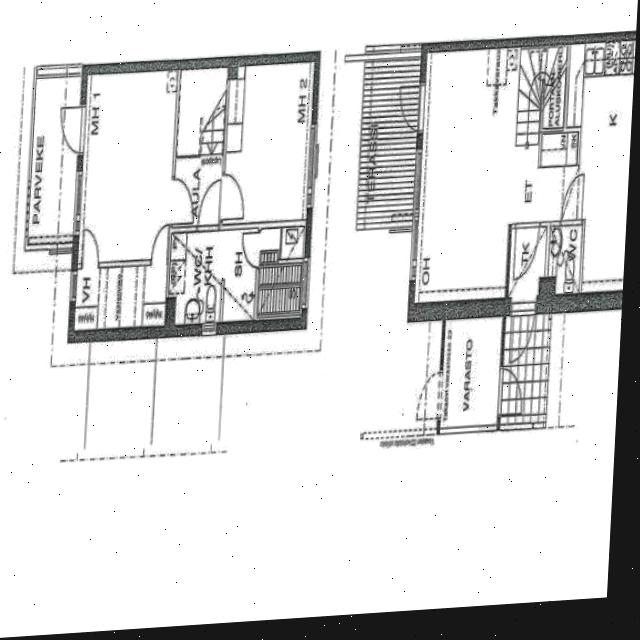room: (78, 66, 178, 268), (209, 59, 301, 230), (166, 229, 263, 326), (27, 75, 81, 248), (172, 66, 227, 230), (440, 314, 503, 431), (71, 264, 171, 330), (256, 224, 304, 320), (508, 224, 547, 299), (547, 223, 583, 295)
